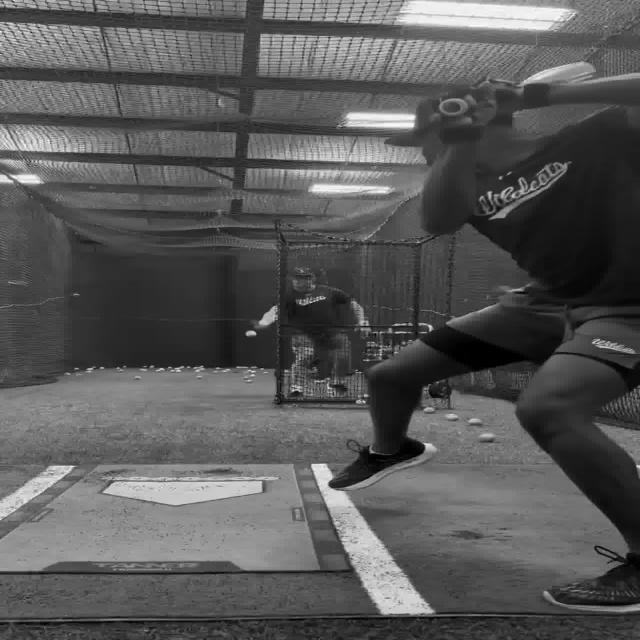baseball: (477, 433, 495, 442), (445, 413, 459, 421), (244, 330, 256, 337), (422, 407, 435, 413), (354, 399, 366, 405), (467, 418, 481, 423), (133, 376, 141, 380), (244, 379, 252, 383), (195, 375, 202, 379)
bat: (499, 61, 599, 88)
shoe: (541, 546, 639, 613), (327, 438, 437, 491), (327, 382, 348, 398), (284, 386, 304, 400)
